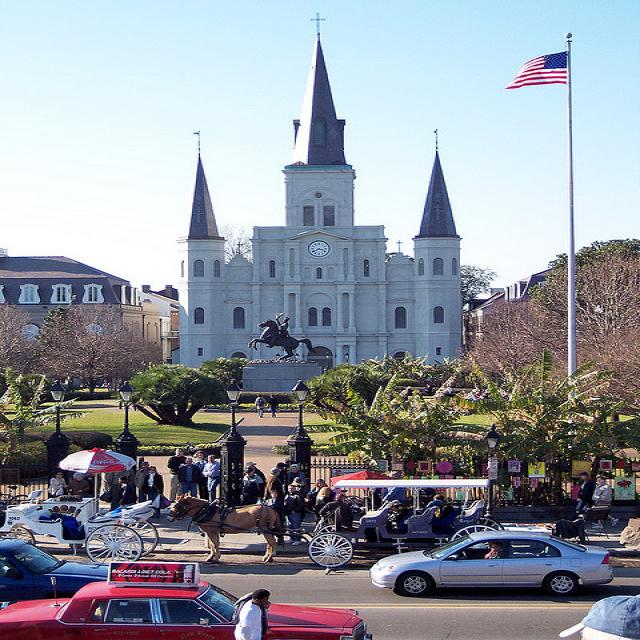Vehicle: (3, 581, 372, 637), (370, 533, 617, 588), (0, 537, 113, 599)
